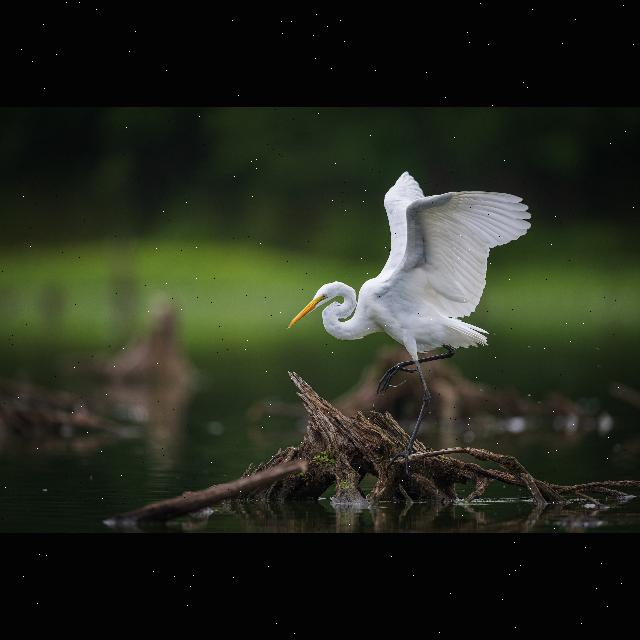egret: (286, 174, 528, 410)
